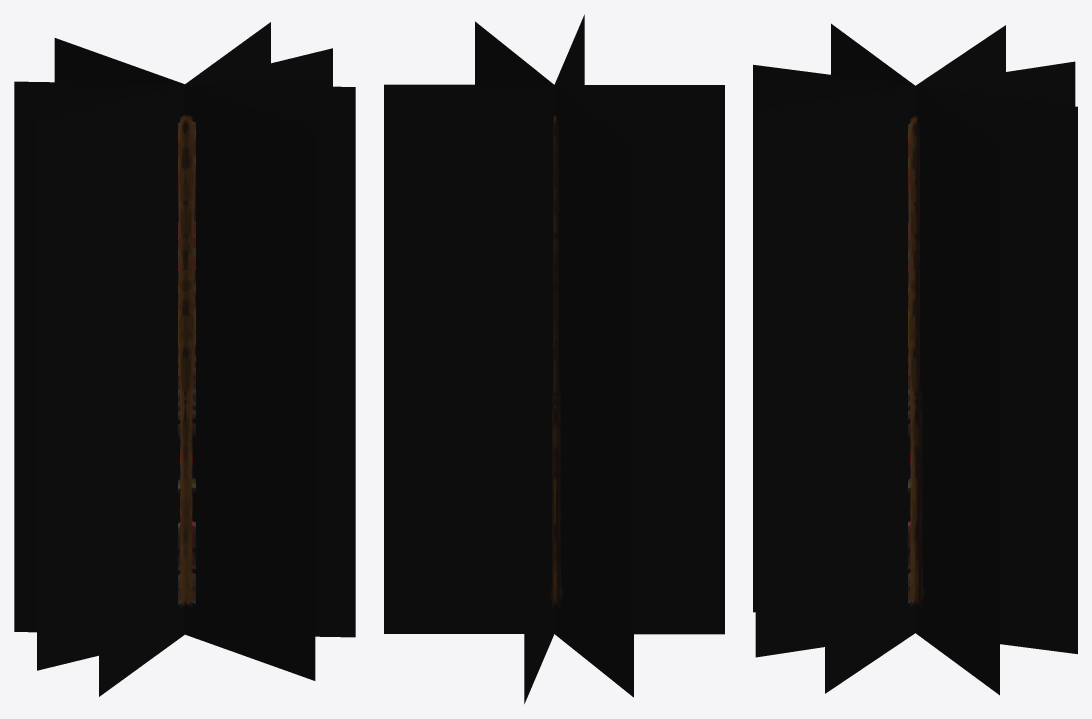
The model's file is TreeThinPlane.glb.
3 views of the same model, side by side, from view 1: azimuth 30°, elevation 25°; view 2: azimuth 150°, elevation 25°; view 3: azimuth 270°, elevation 25° (orthographic).
Visible parts, largest first — view 1: TreeThinPlane; view 2: TreeThinPlane; view 3: TreeThinPlane.
Boxes of the visible parts, left/top/right/bottom form: TreeThinPlane: left=14, top=22, right=355, bottom=696; TreeThinPlane: left=384, top=14, right=724, bottom=703; TreeThinPlane: left=753, top=23, right=1077, bottom=695.
Size of the model in its own units: 18 by 32 by 17.21.
Materials: 1 (1 with a texture image).
